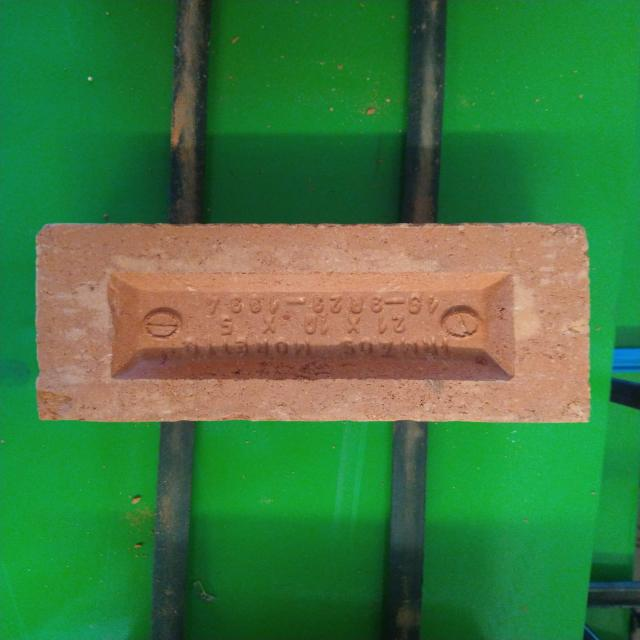bricks: (34, 224, 594, 425)
